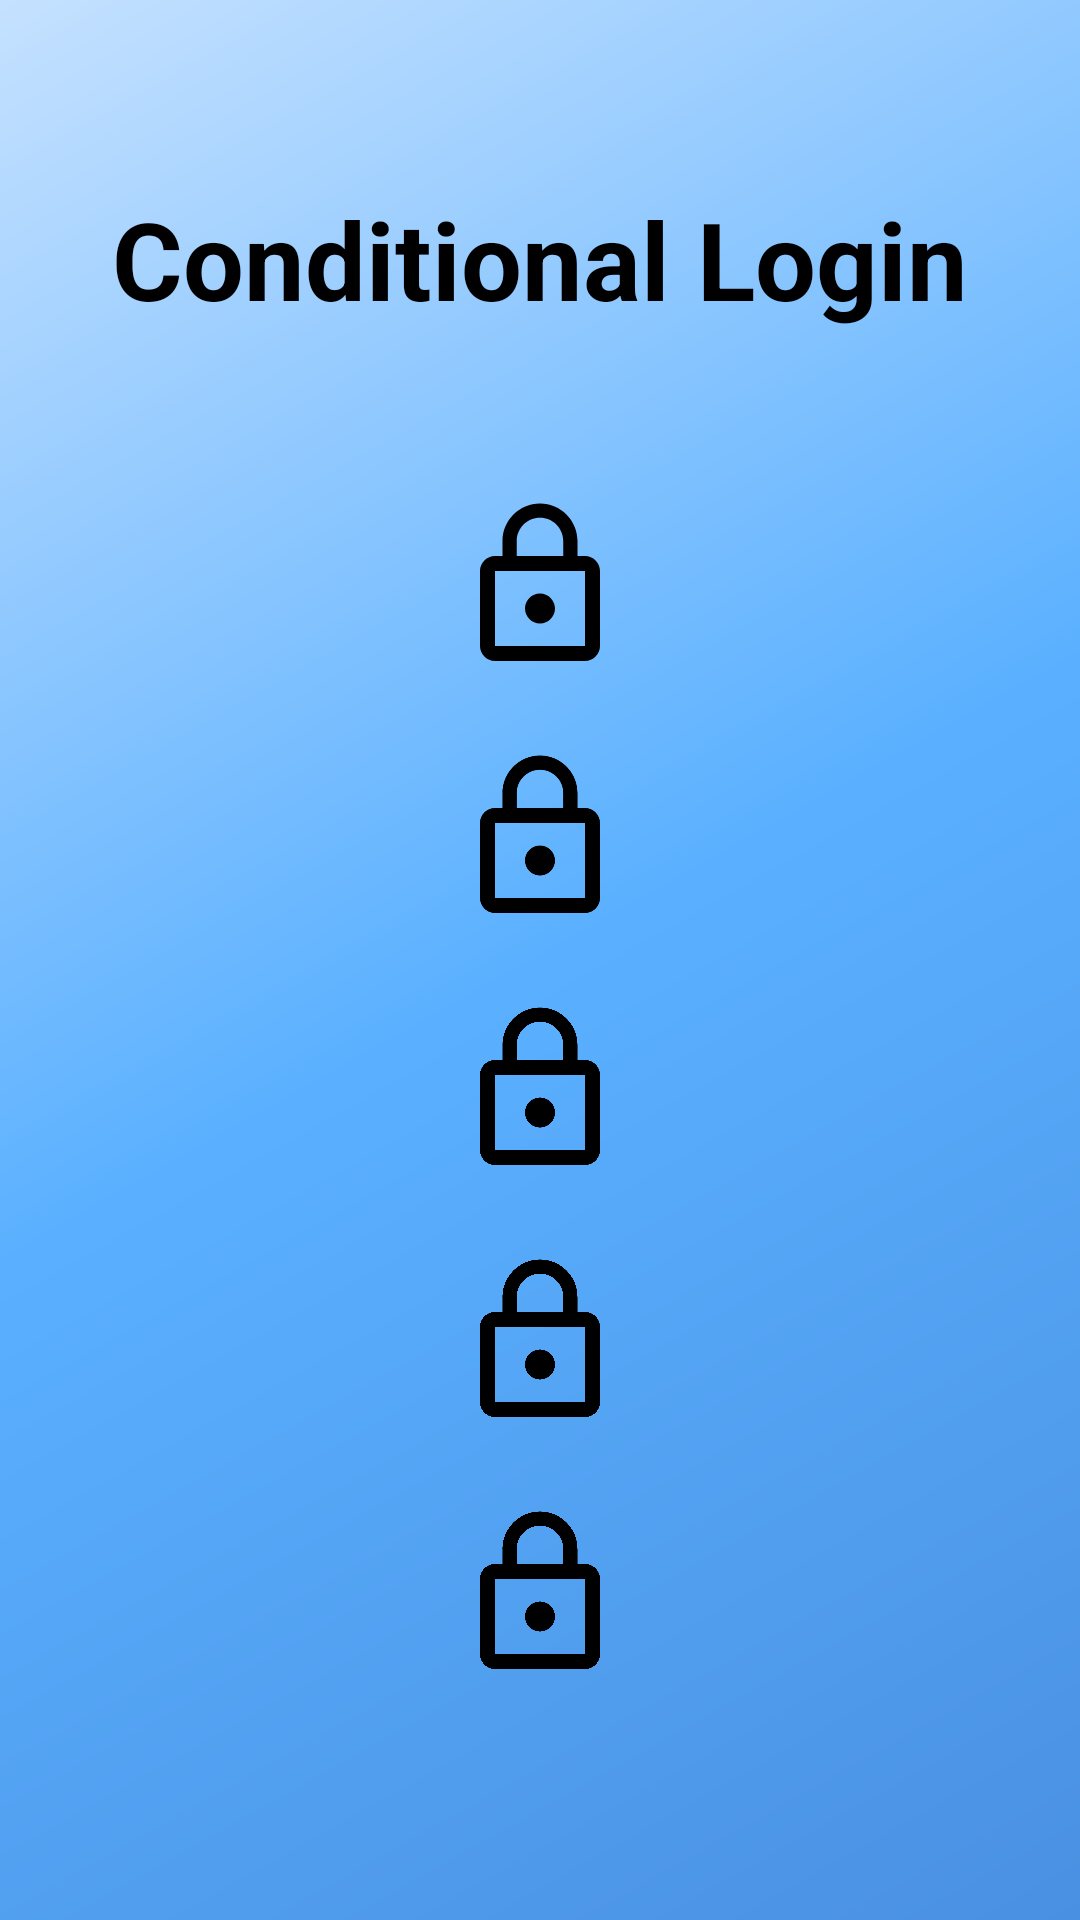

Screen size 1080x1920. Icon name, then its center in pixels as (x=x, y=y):
lock: (x=540, y=582), (x=540, y=834), (x=540, y=1086), (x=540, y=1338), (x=540, y=1590)
